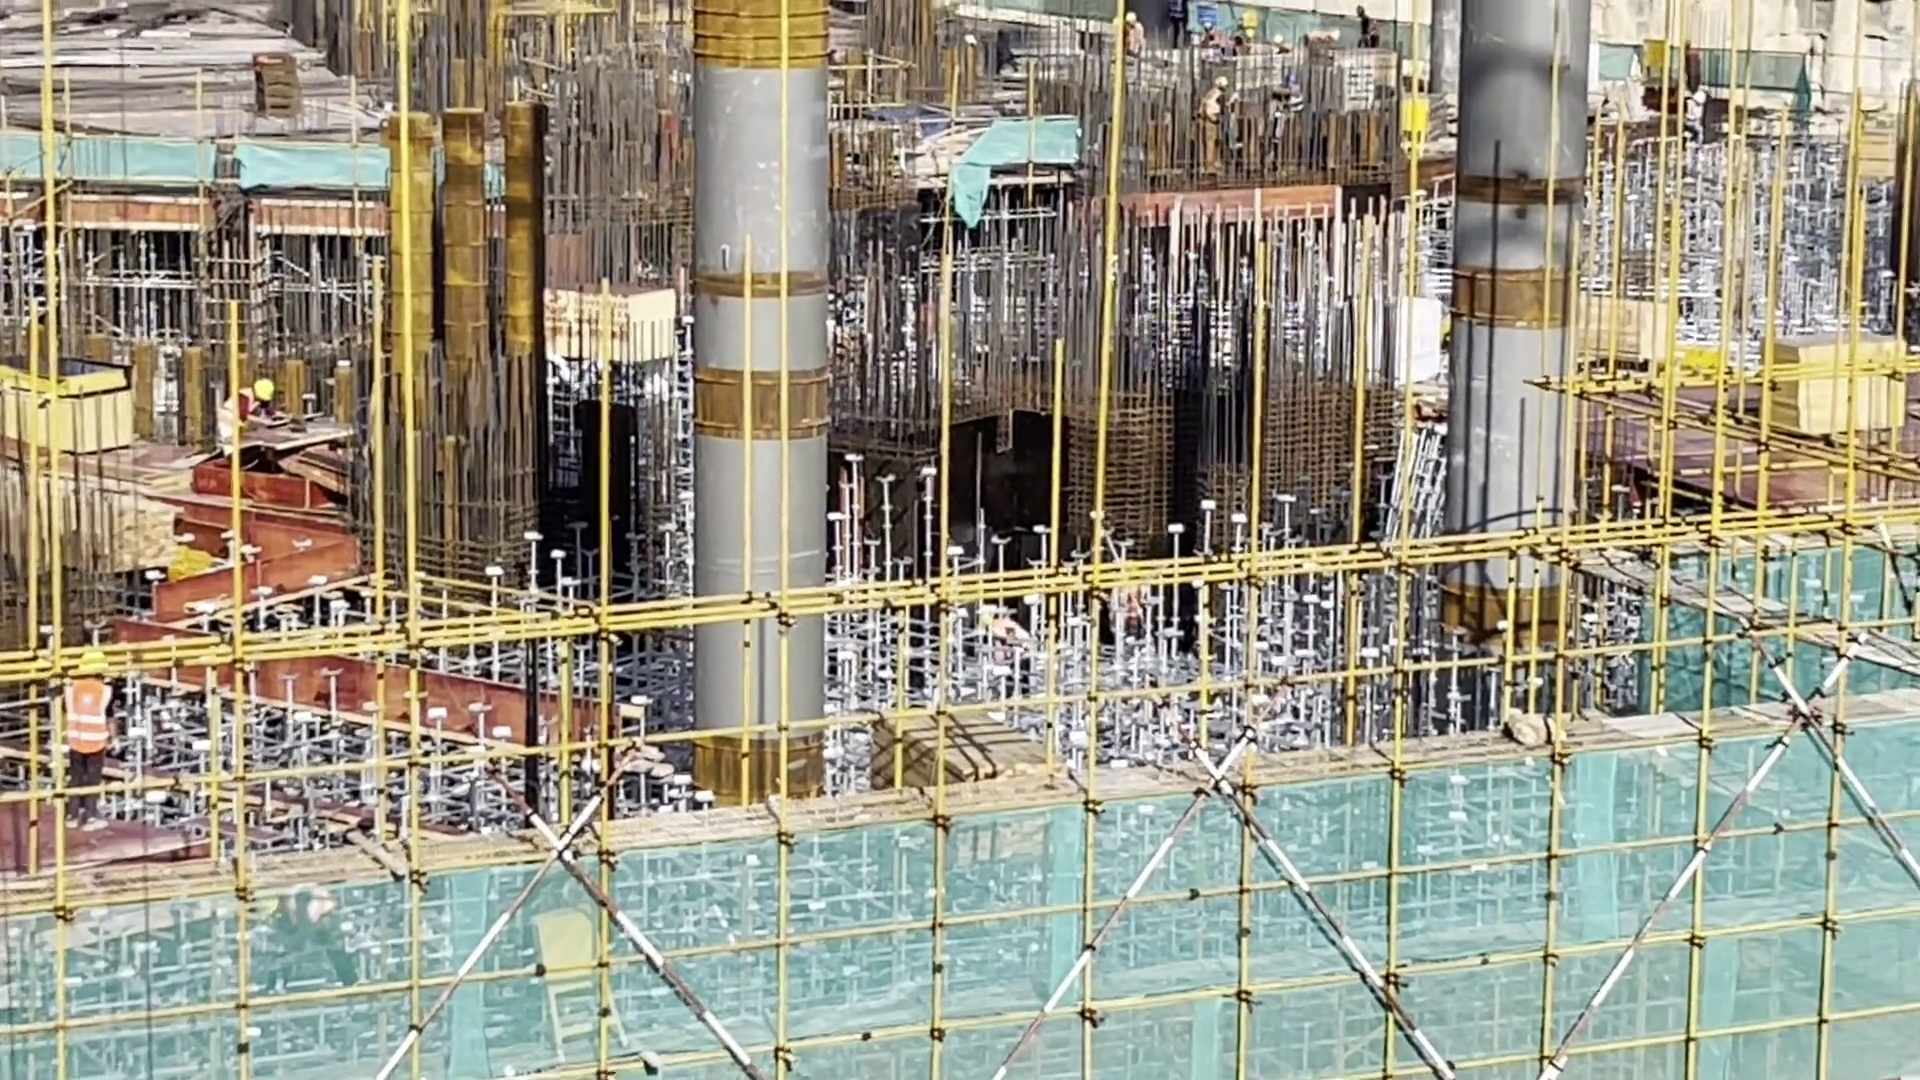helmet: (78, 652, 121, 689), (1241, 11, 1259, 36), (256, 377, 278, 391), (983, 608, 1002, 620), (1353, 6, 1367, 21), (1221, 71, 1237, 83), (1698, 85, 1709, 102), (1687, 35, 1697, 48), (1287, 76, 1298, 89), (1130, 11, 1137, 23), (1211, 26, 1220, 33)
person: (59, 641, 124, 835), (202, 361, 284, 431), (1268, 68, 1309, 167), (1116, 561, 1161, 649), (981, 606, 1036, 674), (1669, 80, 1713, 145), (1205, 67, 1231, 167), (1191, 23, 1258, 59), (1121, 19, 1155, 64), (1685, 43, 1704, 89), (1358, 23, 1388, 48)
vest: (71, 681, 114, 759), (229, 391, 273, 437), (1123, 588, 1152, 631), (999, 623, 1026, 662), (1204, 83, 1234, 116), (1127, 25, 1148, 54), (1687, 96, 1701, 130), (1687, 55, 1703, 82), (1299, 92, 1314, 116), (1366, 24, 1383, 42)
